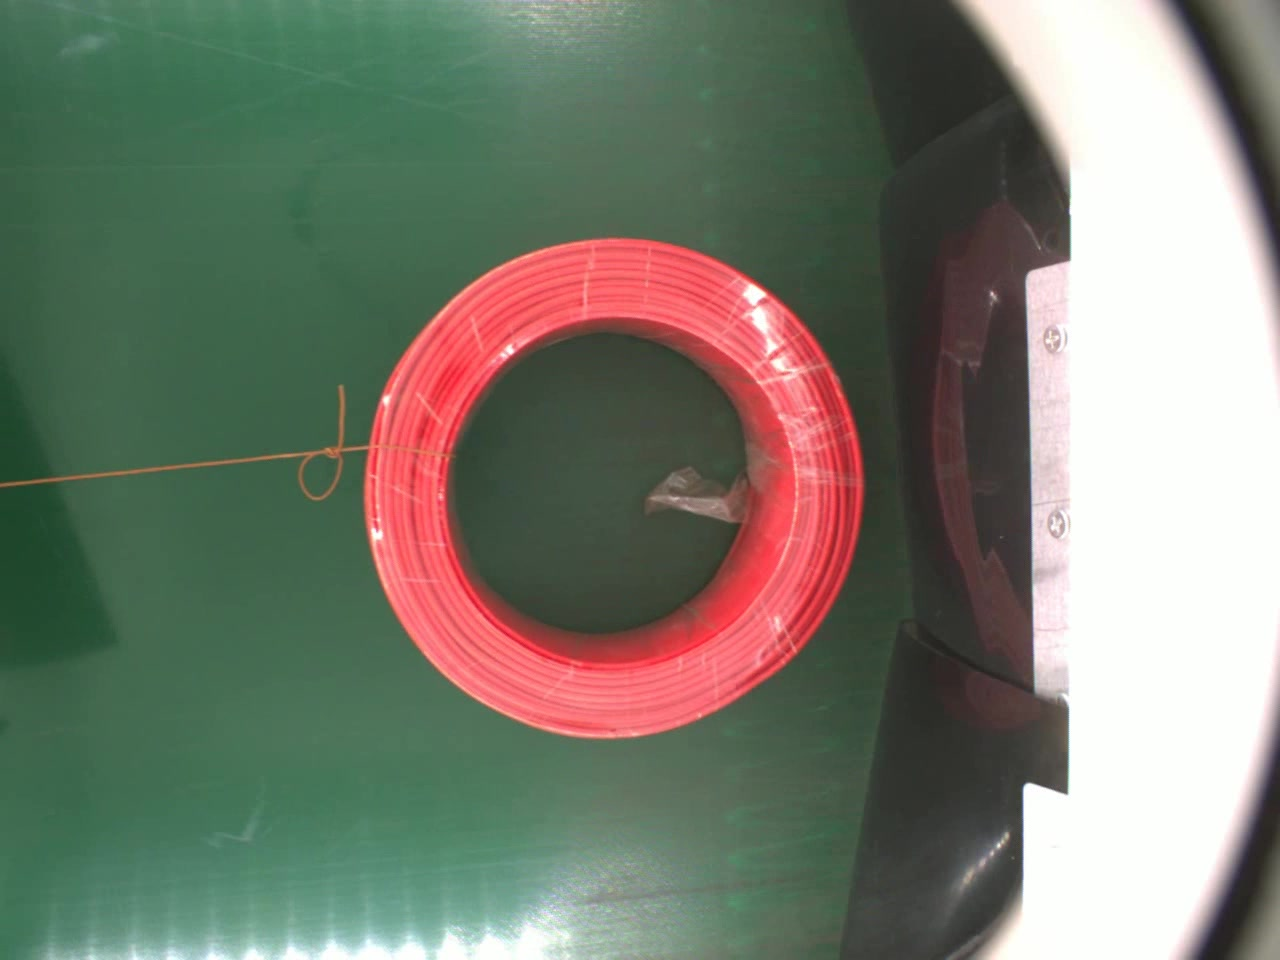red: (361, 232, 860, 746)
